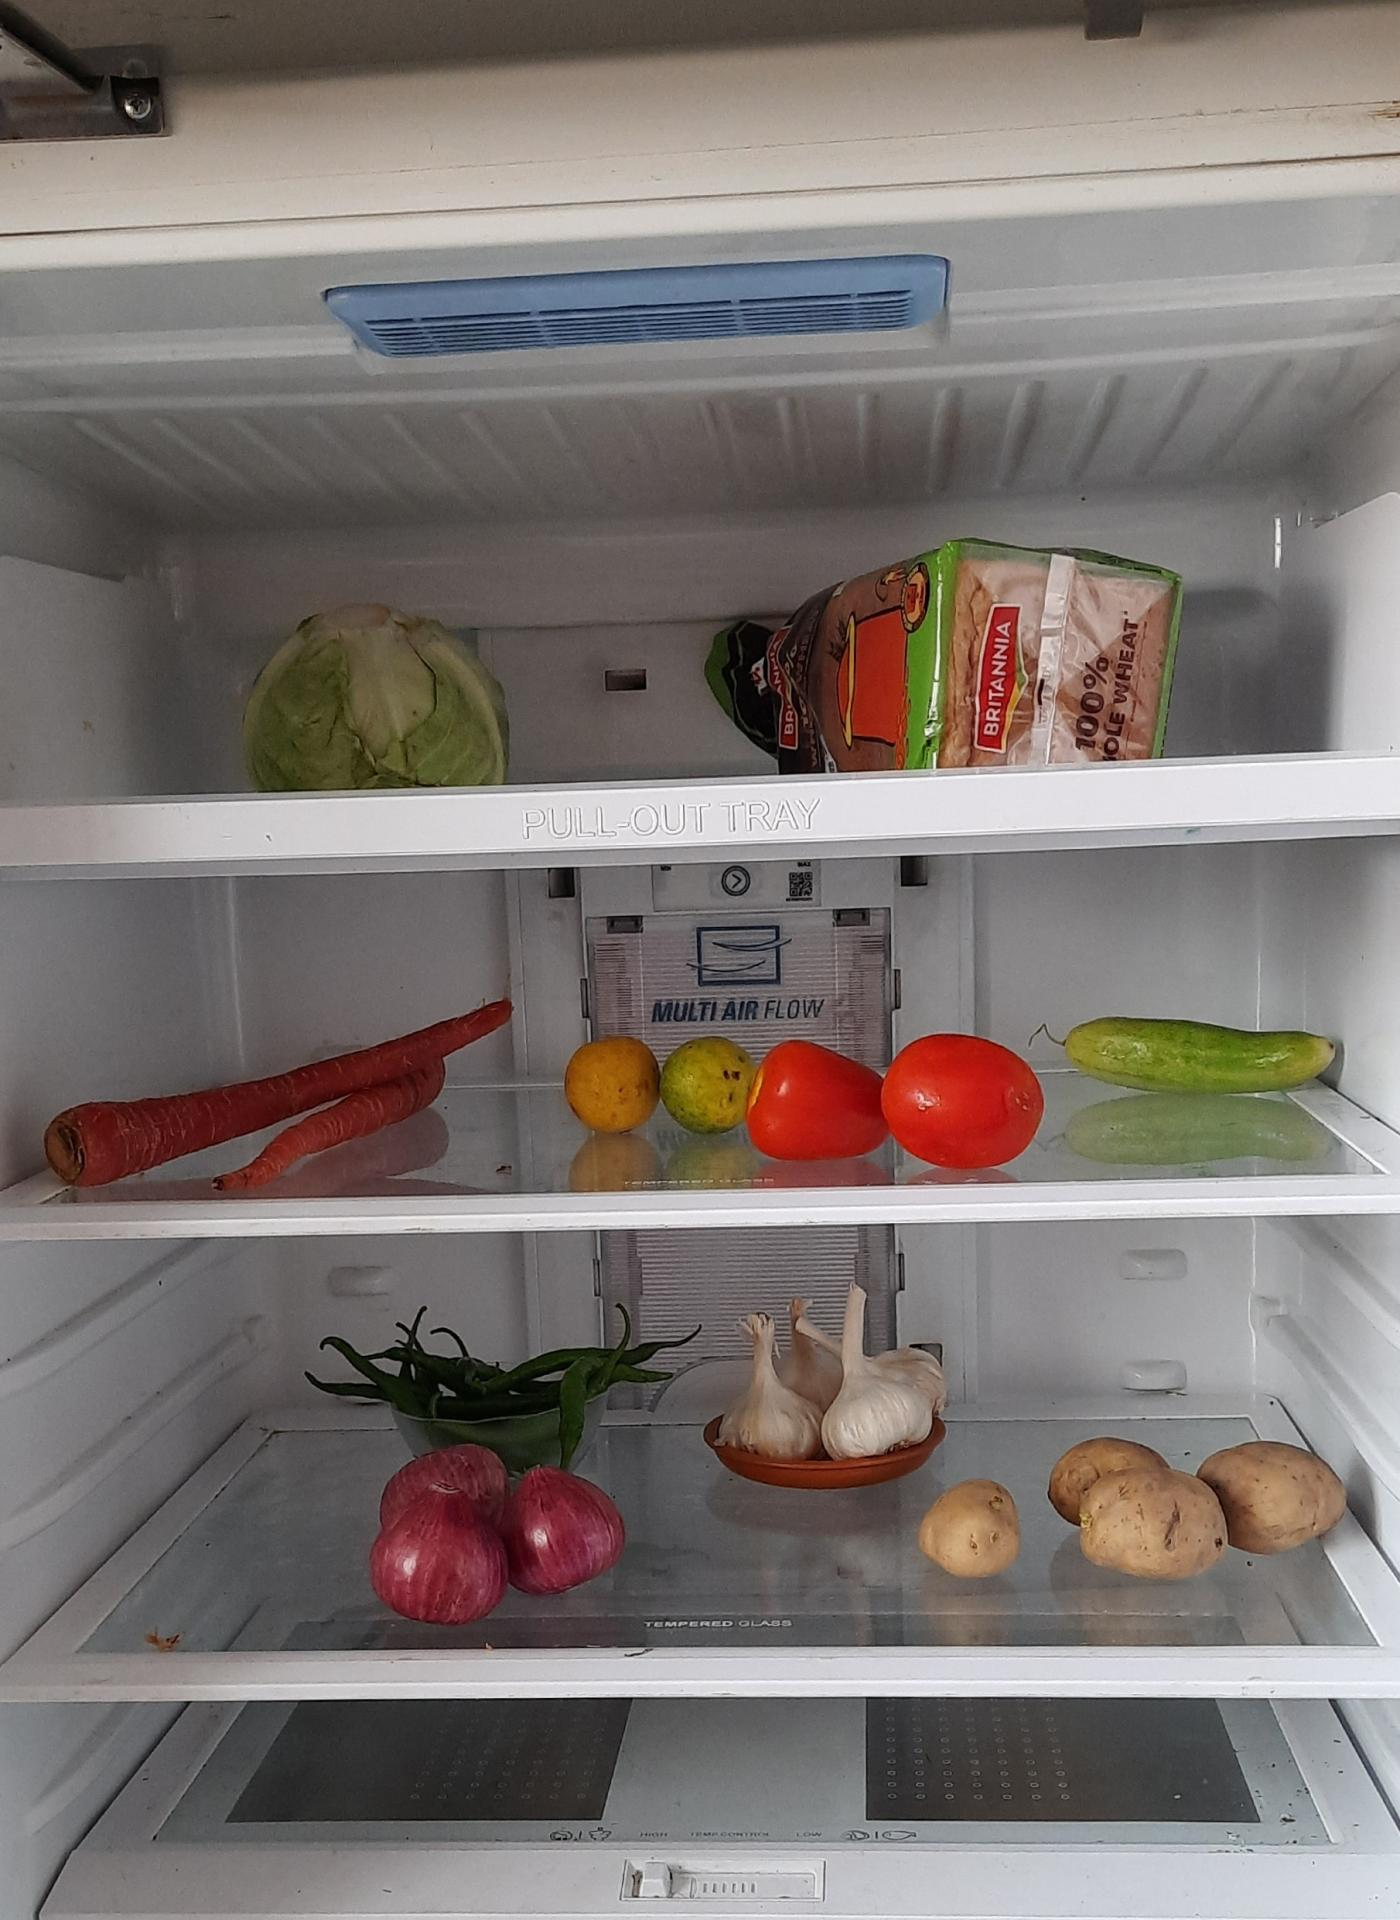bread: (699, 529, 1184, 768)
cabbage: (245, 602, 517, 793)
carrots: (24, 1005, 519, 1209)
chillies: (328, 1312, 635, 1434)
cucumber: (1063, 1021, 1343, 1099)
garlic: (717, 1282, 942, 1459)
lemon: (561, 1027, 763, 1151)
onion: (371, 1434, 629, 1628)
potato: (1047, 1416, 1349, 1562), (918, 1470, 1032, 1592)
tomato: (750, 1024, 1039, 1166)
